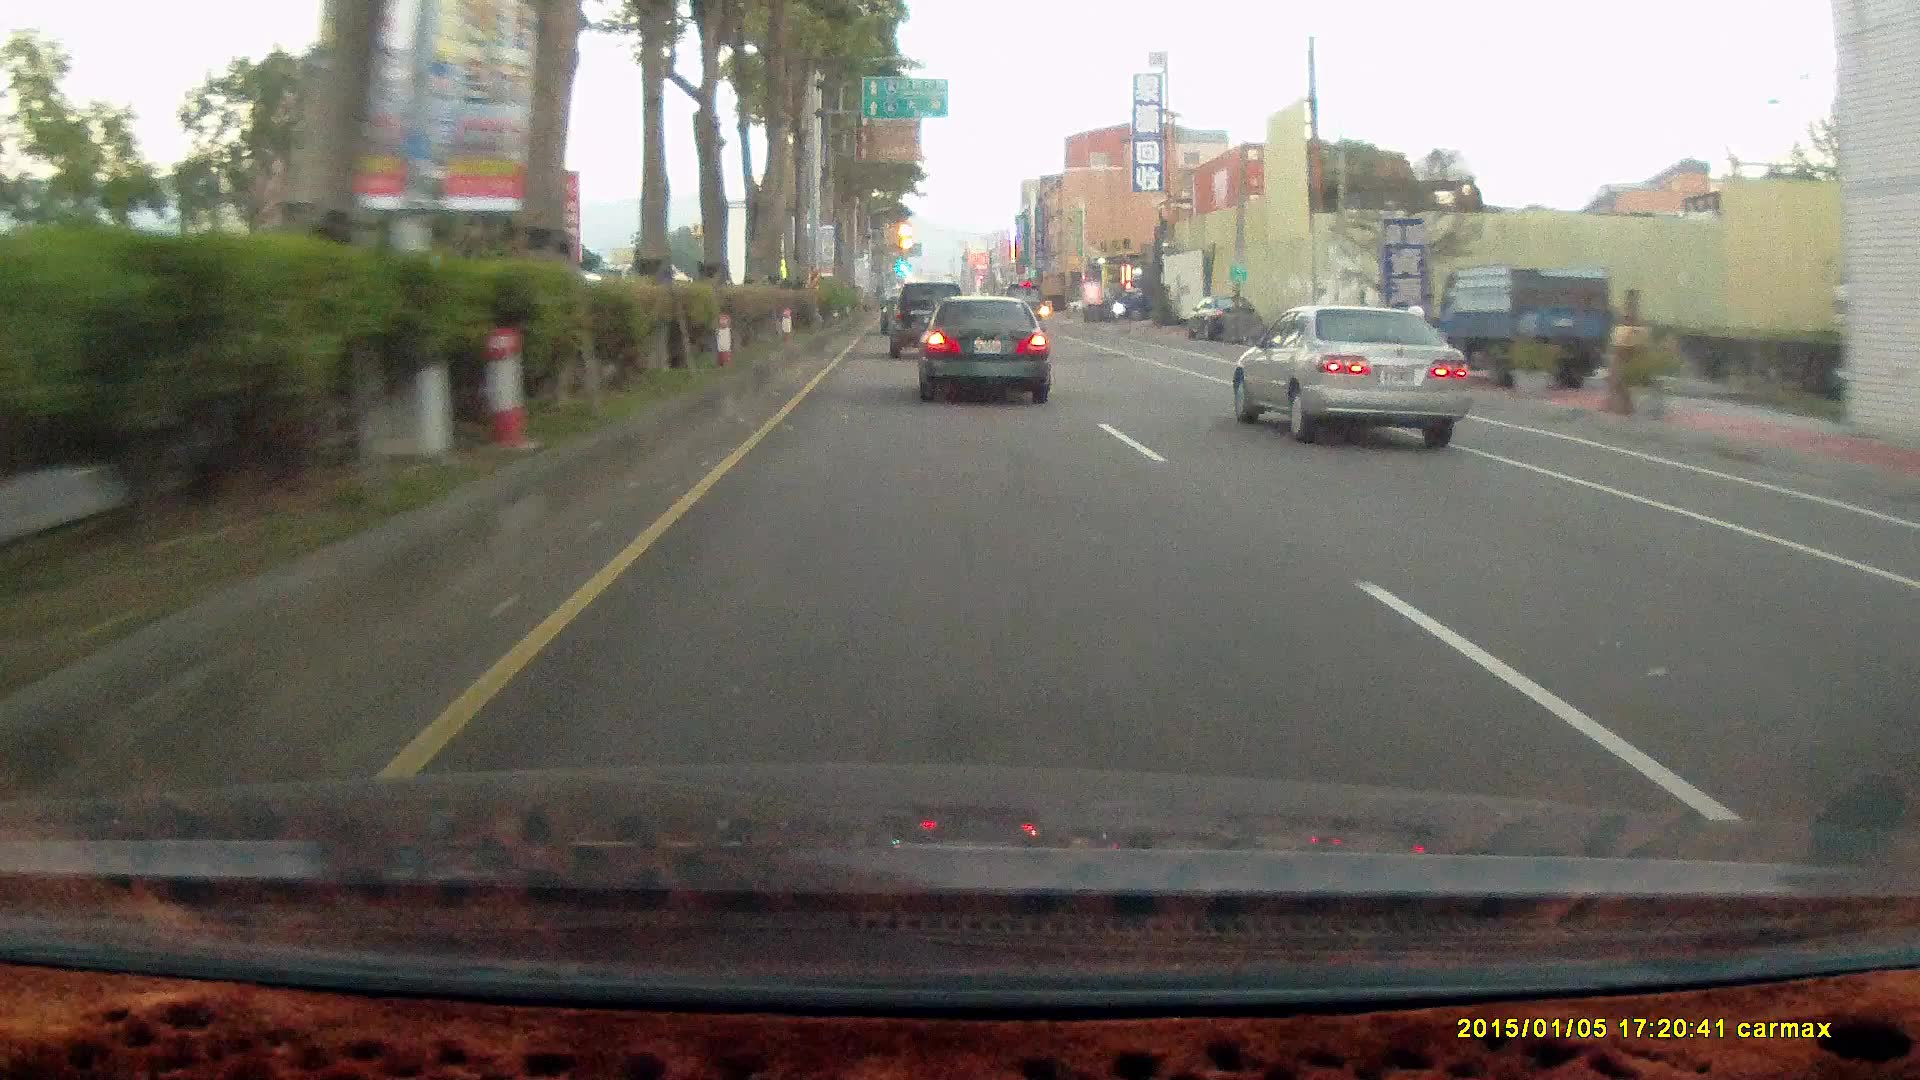vehicle: (1222, 302, 1480, 448), (1232, 302, 1472, 448), (1433, 262, 1609, 390), (1433, 266, 1607, 388), (913, 291, 1050, 401), (922, 295, 1055, 404), (887, 280, 968, 356), (1188, 294, 1267, 344), (1110, 280, 1179, 320)
